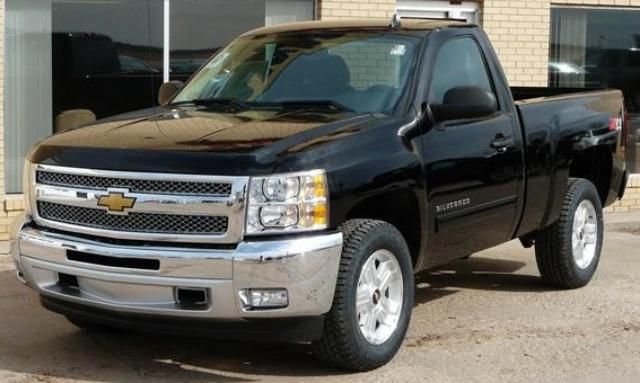pickup-truck: (10, 12, 629, 373)
